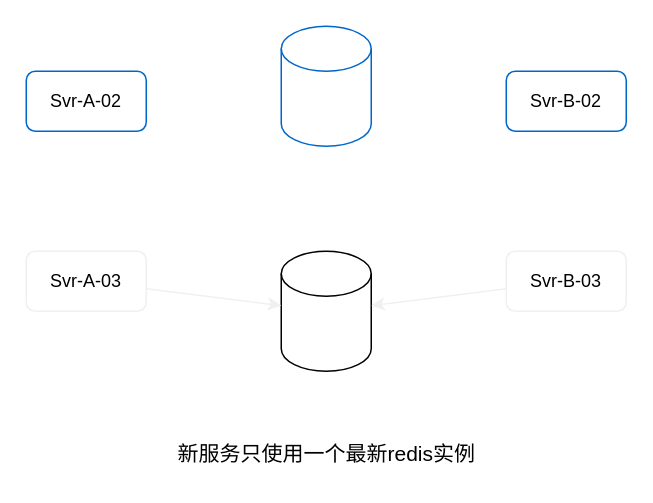
Image size: 653x503. Some labels were removed from this diagram. Here are the shapes that lost their labels. From the top down, the centre of each, then its label:
point 325,85: redis-01
point 325,310: redis-02
